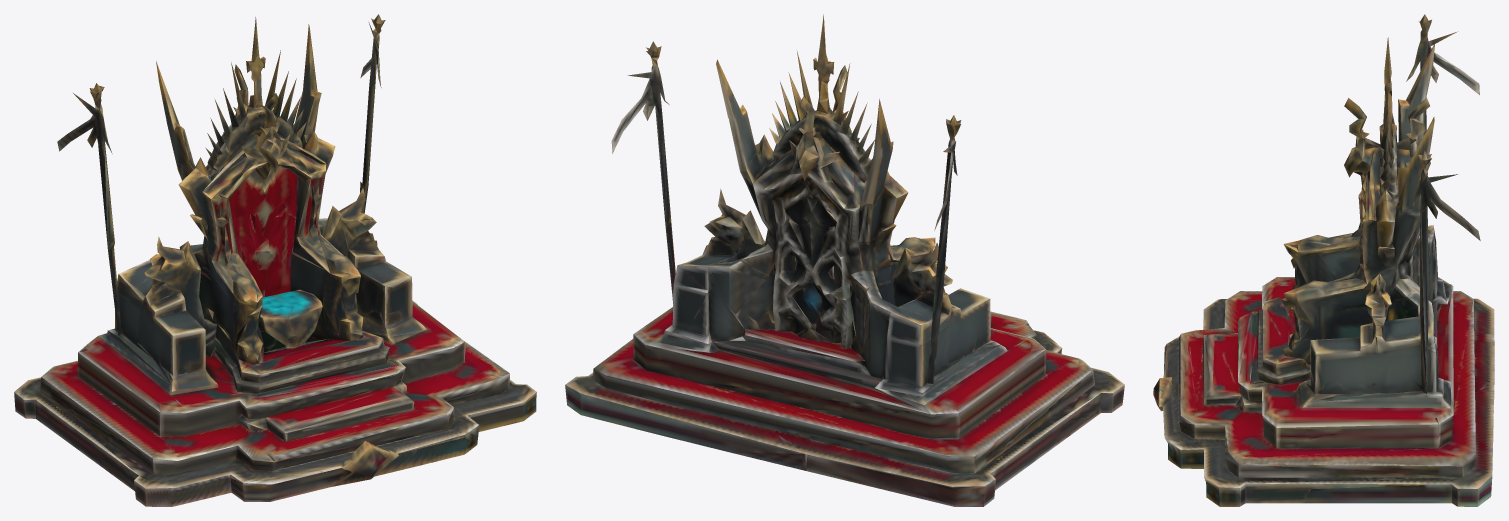
The model's file is boss_cm_warlord.glb.
3 views of the same model, side by side, from view 1: azimuth 30°, elevation 25°; view 2: azimuth 150°, elevation 25°; view 3: azimuth 270°, elevation 25° (orthographic). The views are drawn at different scales.
Size of the model in its own units: 1.9 by 1.76 by 1.44.
1 material, 1 textured.
